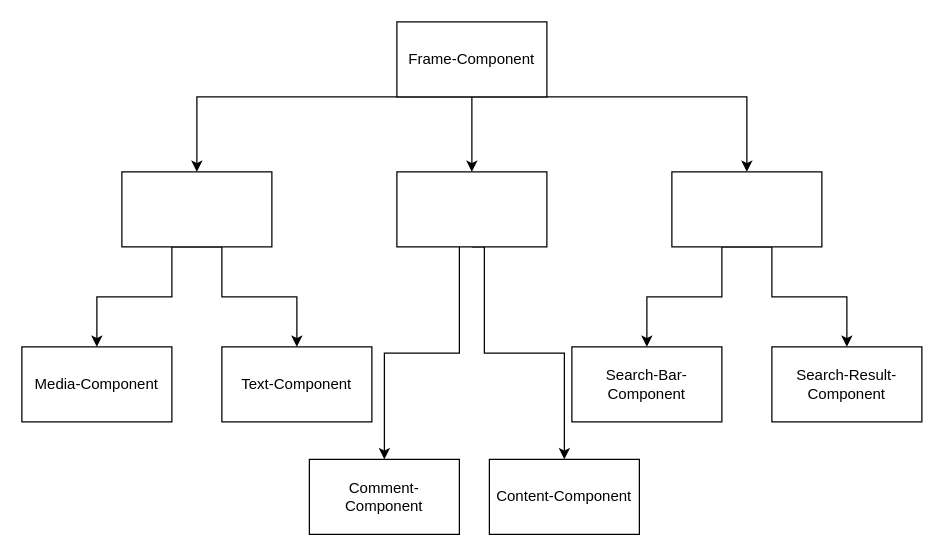
The diagram is 944 pixels wide and 556 high, and some of its shapes have lost their labels. Each missing label, with the centre of its shape:
Detail-Component: the point at 471,209
Home-Component: the point at 196,209
Search-Component: the point at 746,209
